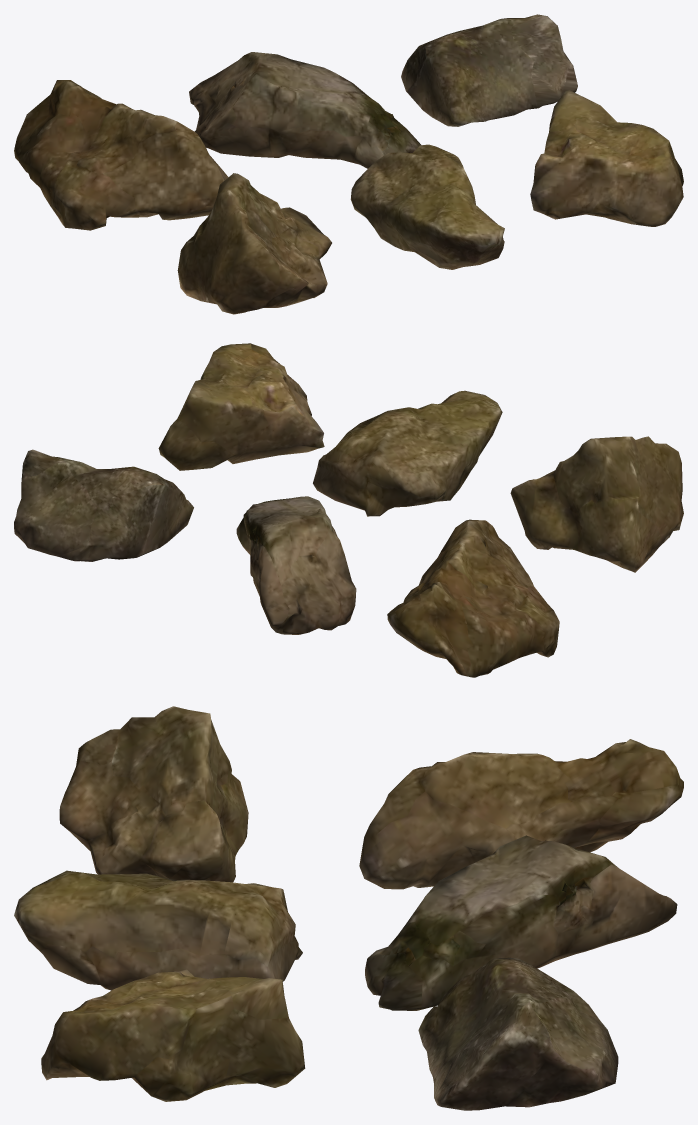
File: rock_moss_set_01.glb
3 renders of one model, top to bottom at view 1: azimuth 30°, elevation 25°; view 2: azimuth 150°, elevation 25°; view 3: azimuth 270°, elevation 25°, orthographic. The views are drawn at different scales.
Visible parts, largest first — view 1: rock_moss_set_01_rock01; view 2: rock_moss_set_01_rock01; view 3: rock_moss_set_01_rock01.
Part boxes in pixels (x1,y1,x2,y2): rock_moss_set_01_rock01: (14, 14, 683, 314); rock_moss_set_01_rock01: (14, 343, 683, 677); rock_moss_set_01_rock01: (14, 706, 683, 1110).
Bounding box in the file's own units: 8 × 1.76 × 6.94.
1 material, 1 textured.
